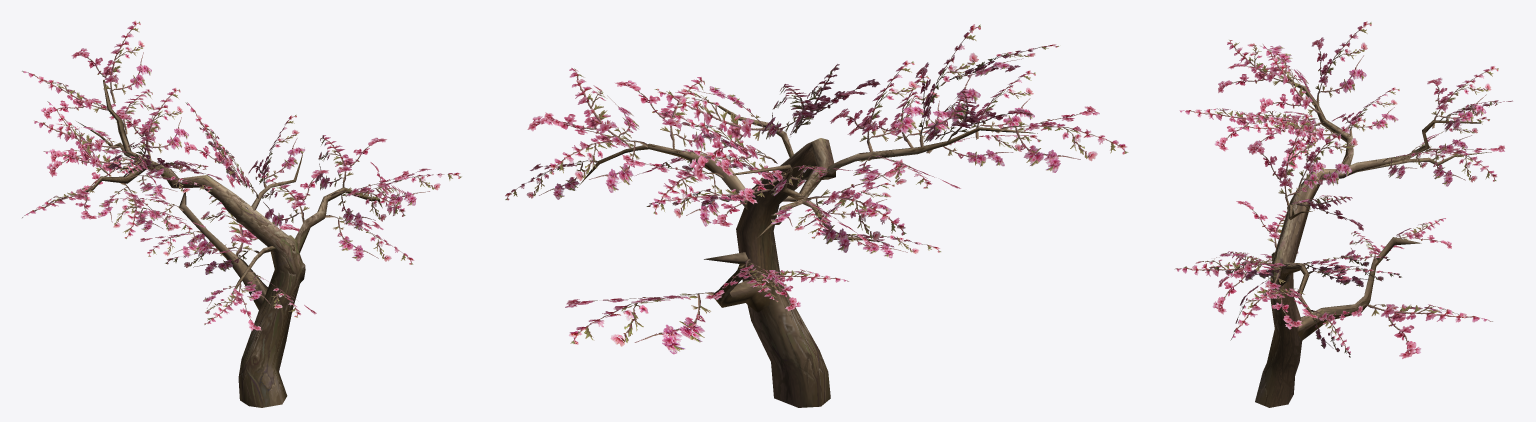
Rendered from SC001Jzhiwu_45_01.FBX.
The picture shows the model from 3 angles, left to right: view 1: azimuth 30°, elevation 25°; view 2: azimuth 150°, elevation 25°; view 3: azimuth 270°, elevation 25°; orthographic projection. The views are drawn at different scales.
Visible parts, largest first — view 1: SC001Jzhiwu_45_01; view 2: SC001Jzhiwu_45_01; view 3: SC001Jzhiwu_45_01.
Boxes of the visible parts, x1,y1,x2,y2 form: SC001Jzhiwu_45_01: [22, 20, 461, 407]; SC001Jzhiwu_45_01: [505, 24, 1128, 407]; SC001Jzhiwu_45_01: [1174, 21, 1512, 407].
Bounding box in the file's own units: 495 × 334 × 355.
